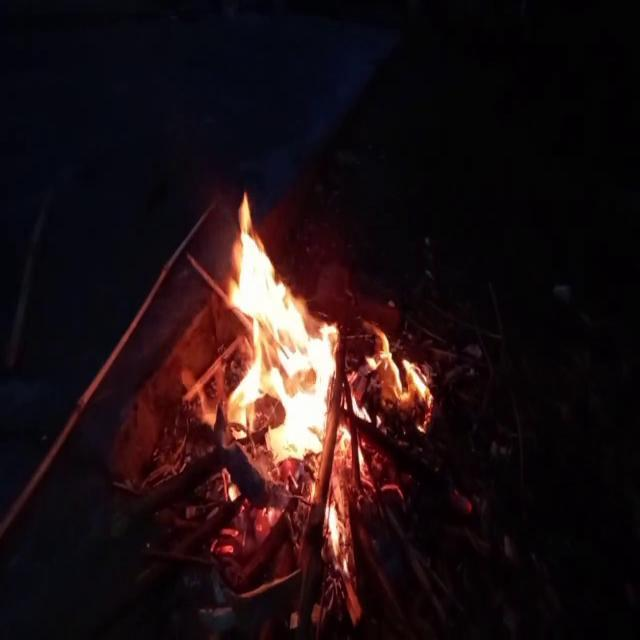Fire: (194, 190, 376, 570), (360, 308, 440, 436)
